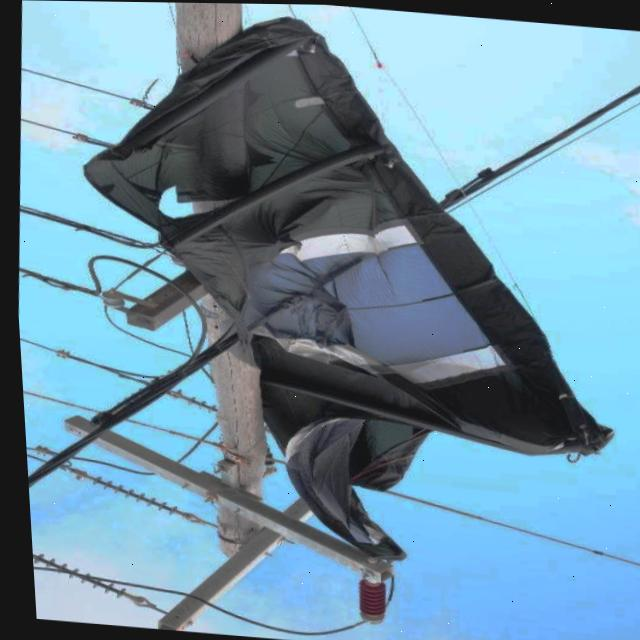obstruction: (79, 13, 609, 542)
poles: (84, 430, 360, 565), (157, 526, 274, 630), (206, 350, 261, 467)
wires: (440, 78, 640, 204), (23, 480, 211, 594), (423, 504, 640, 577), (16, 344, 181, 430), (20, 76, 142, 142), (18, 266, 101, 293)
